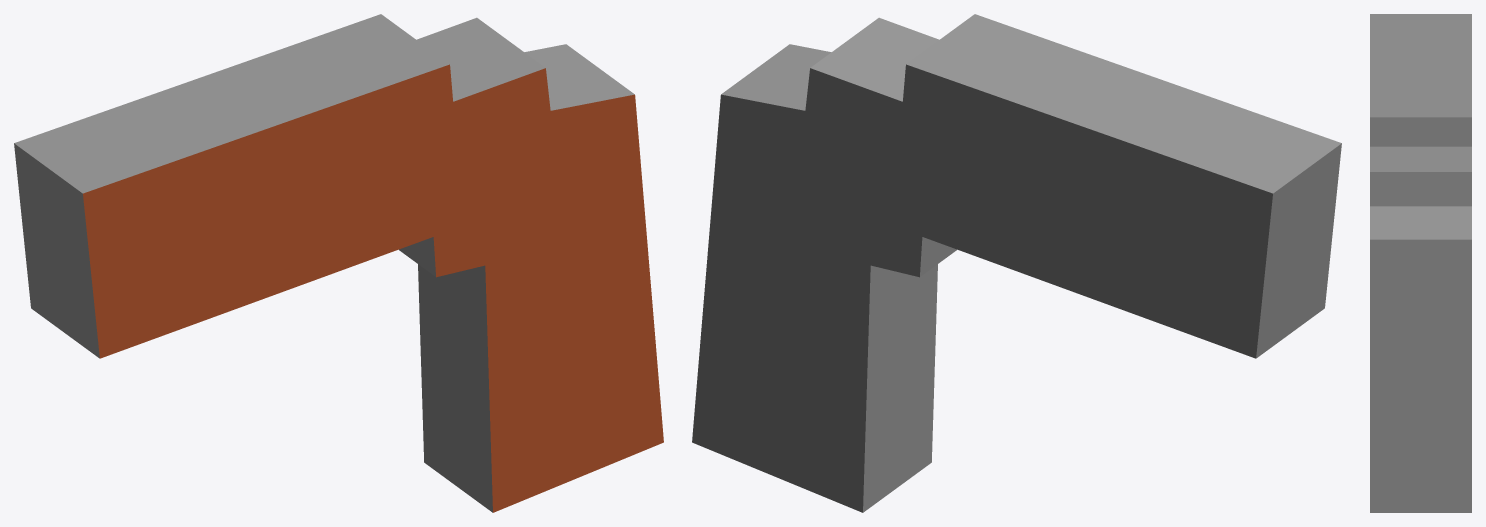
The model's file is construction_0818_assumed_A_Casa_h6m.obj.
3 views of the same model, side by side, from view 1: azimuth 30°, elevation 25°; view 2: azimuth 150°, elevation 25°; view 3: azimuth 270°, elevation 25° (orthographic). The views are drawn at different scales.
Visible parts, largest first — view 1: construction_0818_assumed_A_Casa; view 2: construction_0818_assumed_A_Casa; view 3: construction_0818_assumed_A_Casa.
Part boxes in pixels (left/top/right/bottom): construction_0818_assumed_A_Casa: left=14, top=14, right=663, bottom=512; construction_0818_assumed_A_Casa: left=692, top=14, right=1341, bottom=512; construction_0818_assumed_A_Casa: left=1370, top=14, right=1471, bottom=512.
Bounding box in the file's own units: 29.23 × 22.06 × 6.
